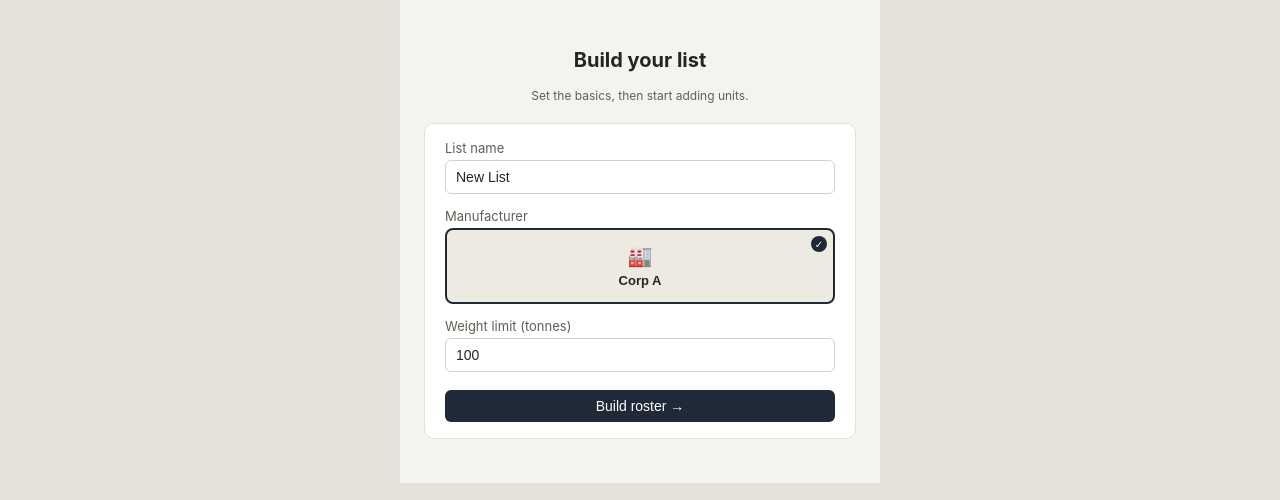
Test: ListBuilderPage › removes a unit from the roster
Click the button "Build roster →".
click(640, 406)  # box left=445, top=390, right=835, bottom=422
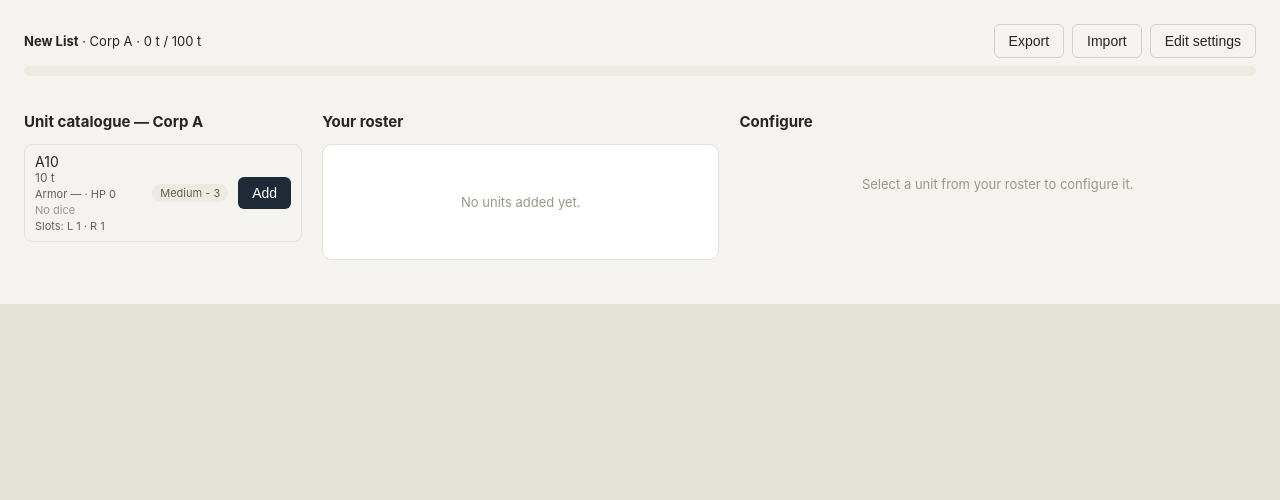
Click the button "Add".
click(265, 193)  # box left=238, top=177, right=291, bottom=209
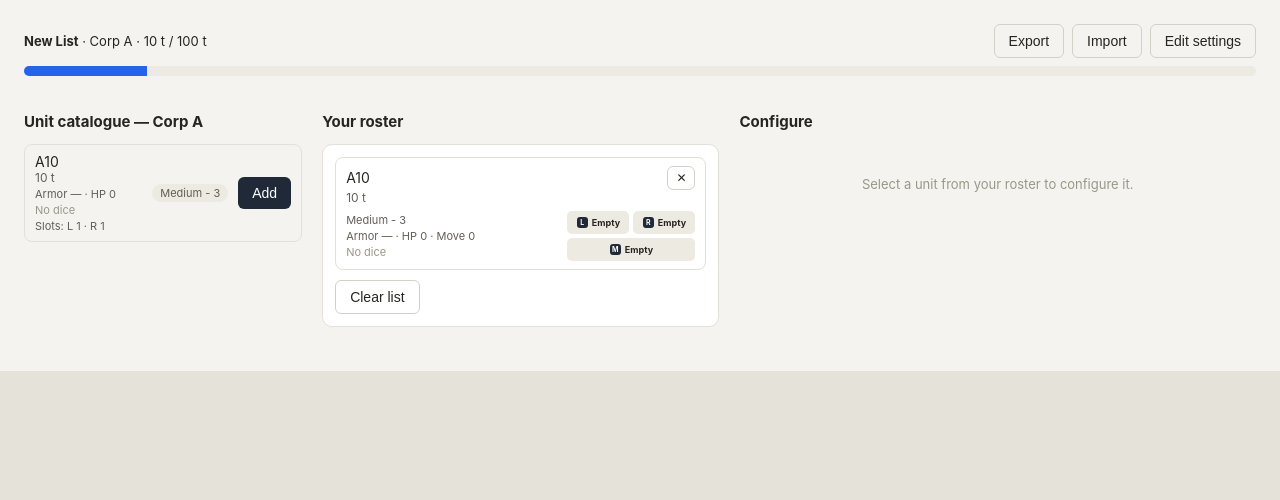
Click the button named "Remove".
click(681, 178)  # box left=667, top=166, right=696, bottom=190
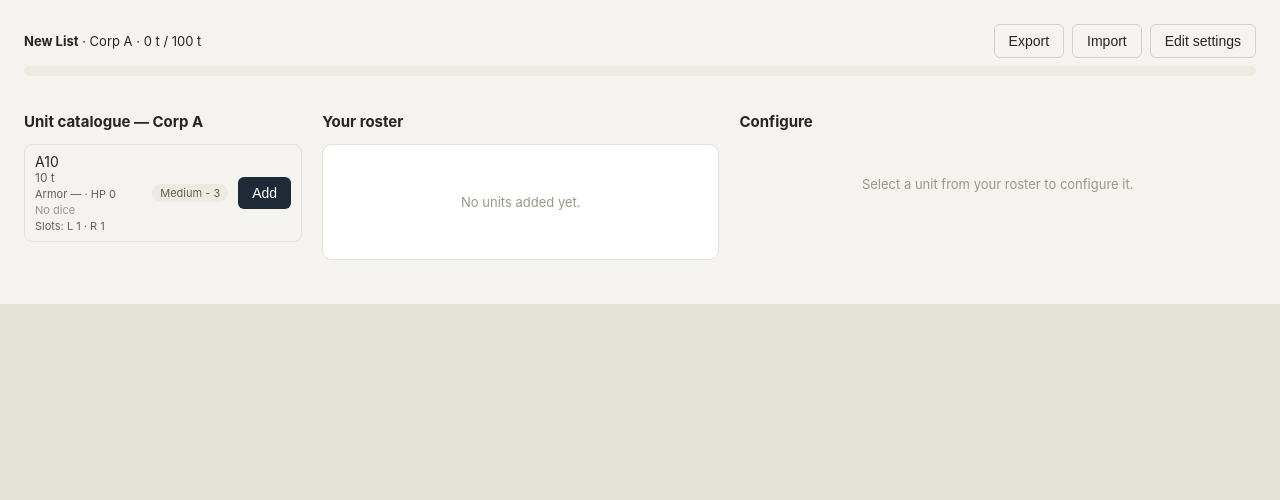
Expected: the text "No units added yet." is shown, left=461, top=194, right=581, bottom=210
